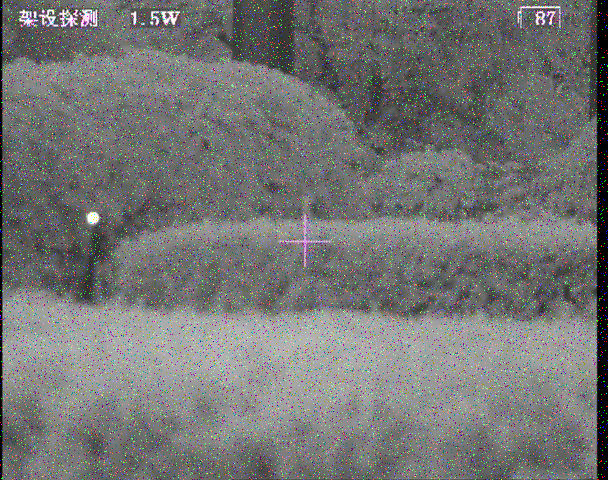my: (86, 211, 100, 226)
